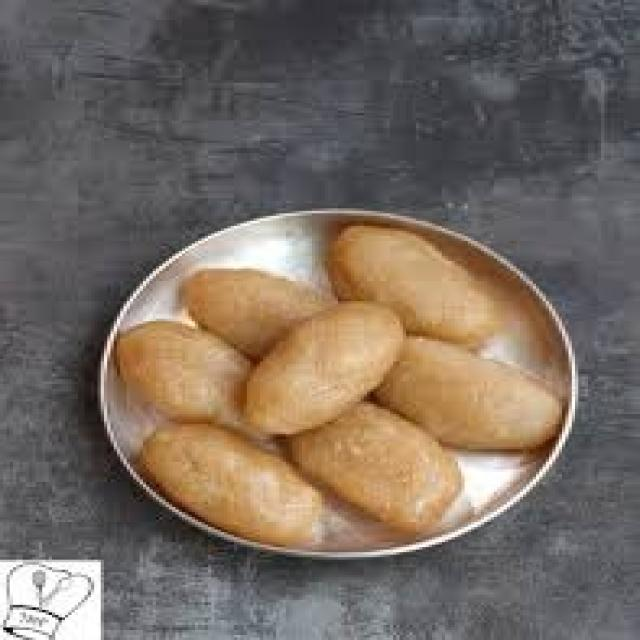pidi kolukattai: (84, 222, 571, 587)
